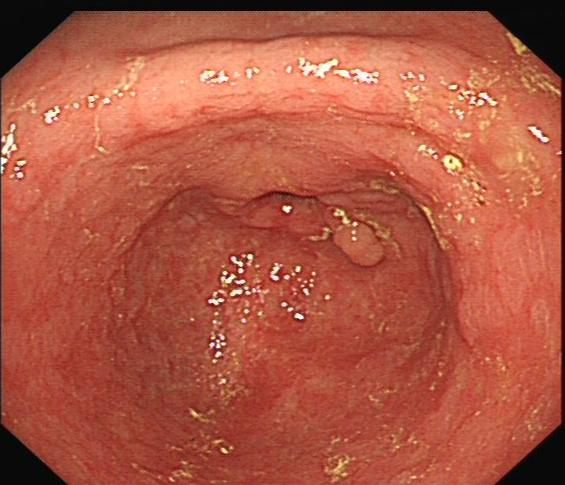Polyp: (309, 203, 418, 298)
